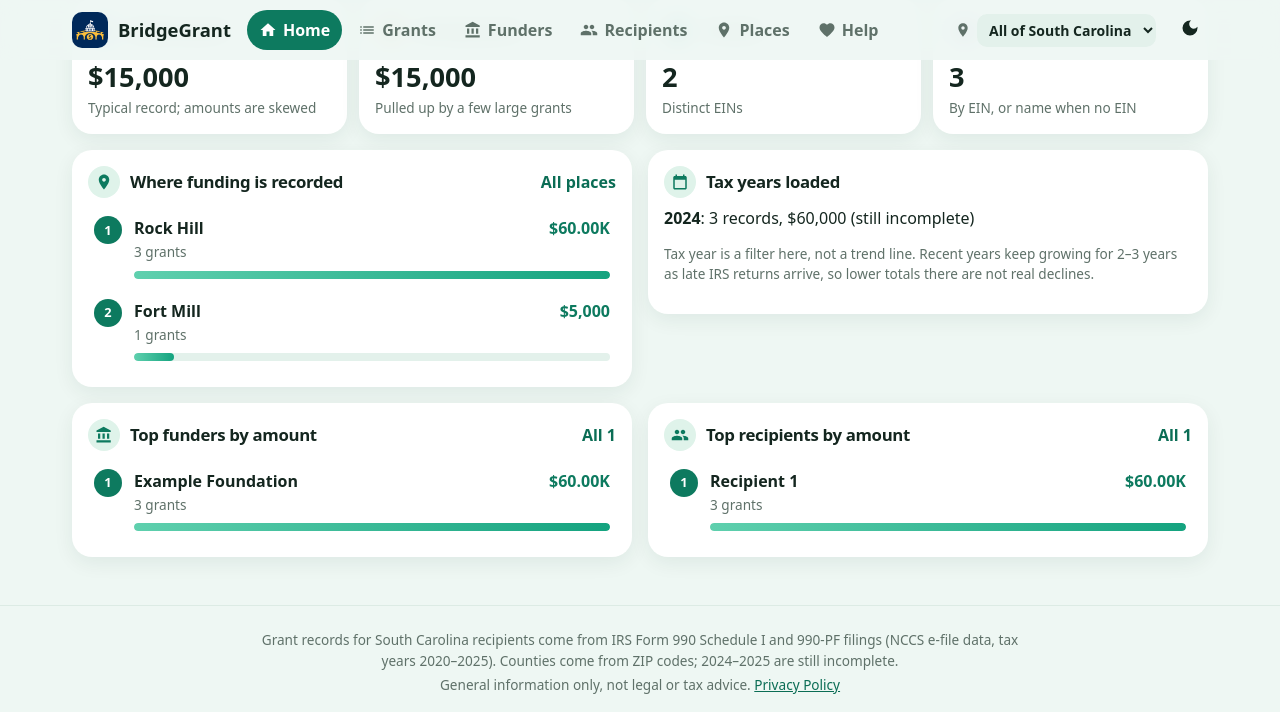
Test: BridgeGrant website › privacy policy page is linked from the footer
(page scrolled)
Click the link "Privacy Policy" at (797, 685), box [754,675,840,694]
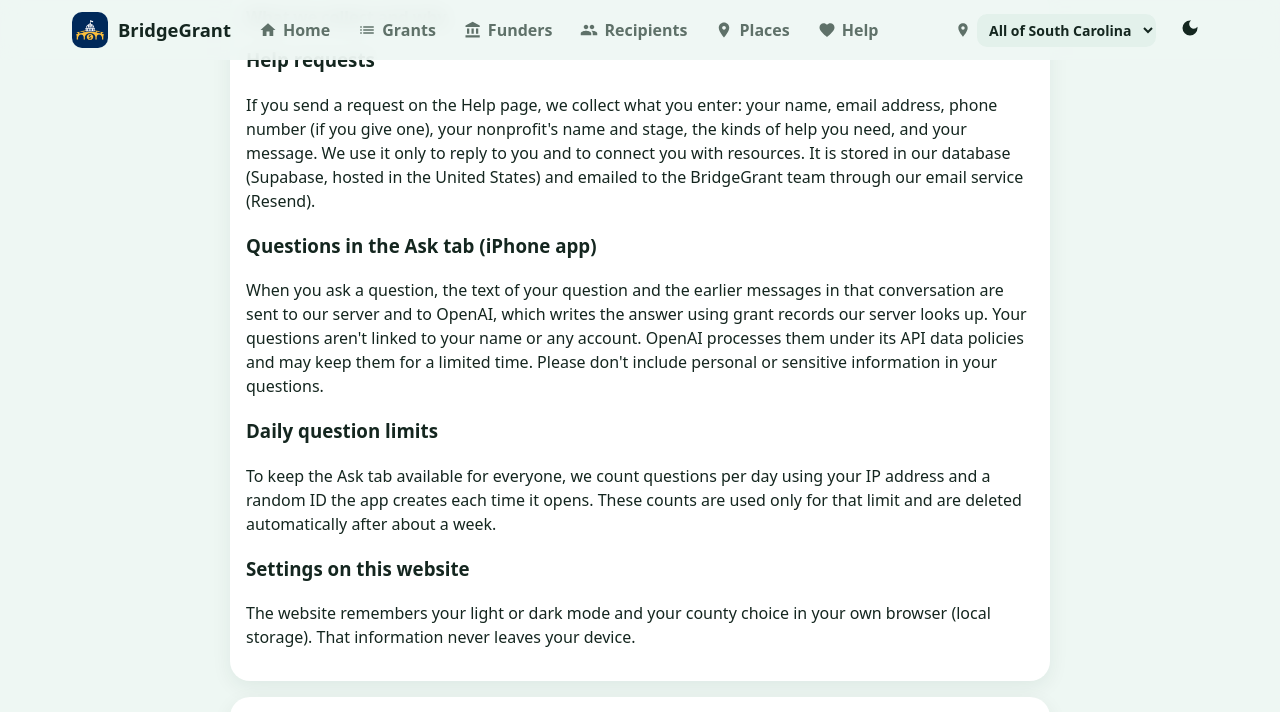
Expected: the heading "Questions in the Ask tab (iPhone app)" is shown, [246,233,596,258]
